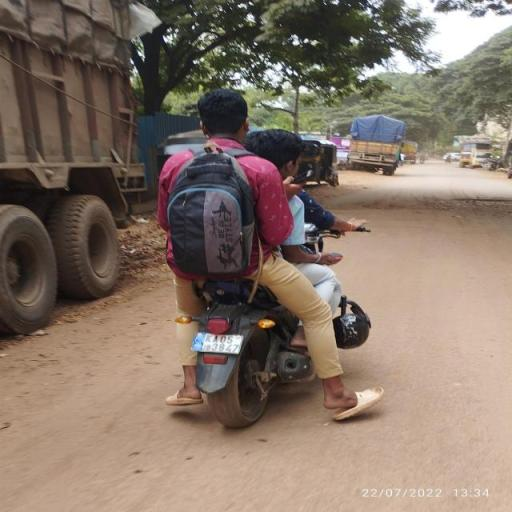tripple riding: (148, 80, 338, 298)
